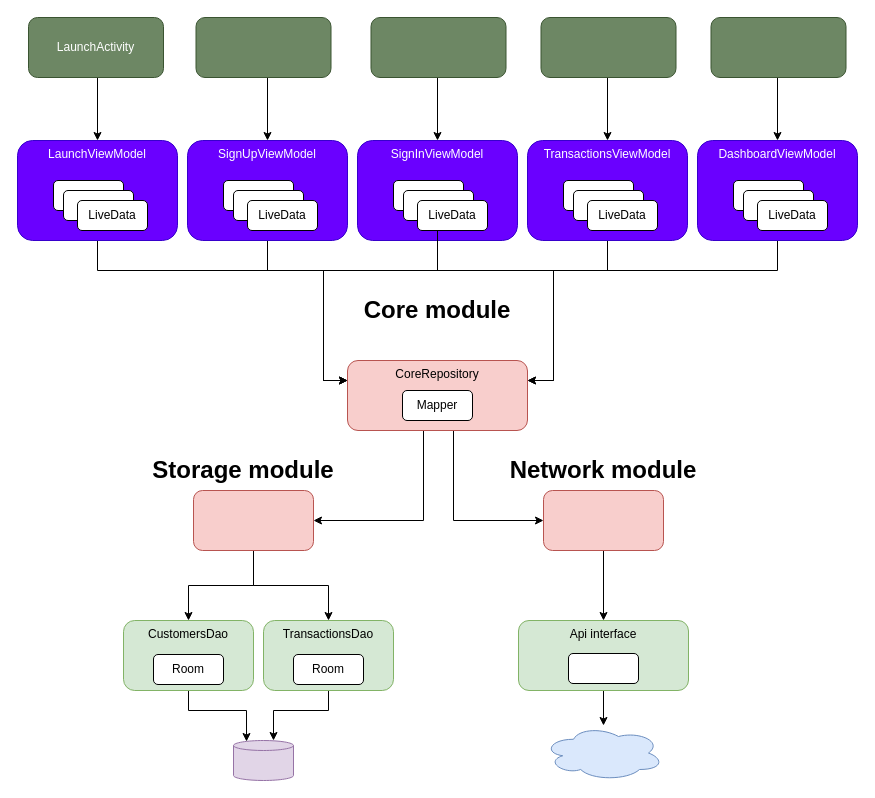
The diagram is 875 pixels wide and 798 high, and some of its shapes have lost their labels. Each missing label, with the centre of its shape:
DashboardActivity: the point at 778,47
NetworkRepository: the point at 603,520
Retrofit: the point at 603,668
SignInActivity: the point at 438,47
SignUpActivity: the point at 263,47
SQLite: the point at 263,760
Storage repository: the point at 253,520
TransactionsActivity: the point at 608,47
WebService: the point at 603,752
